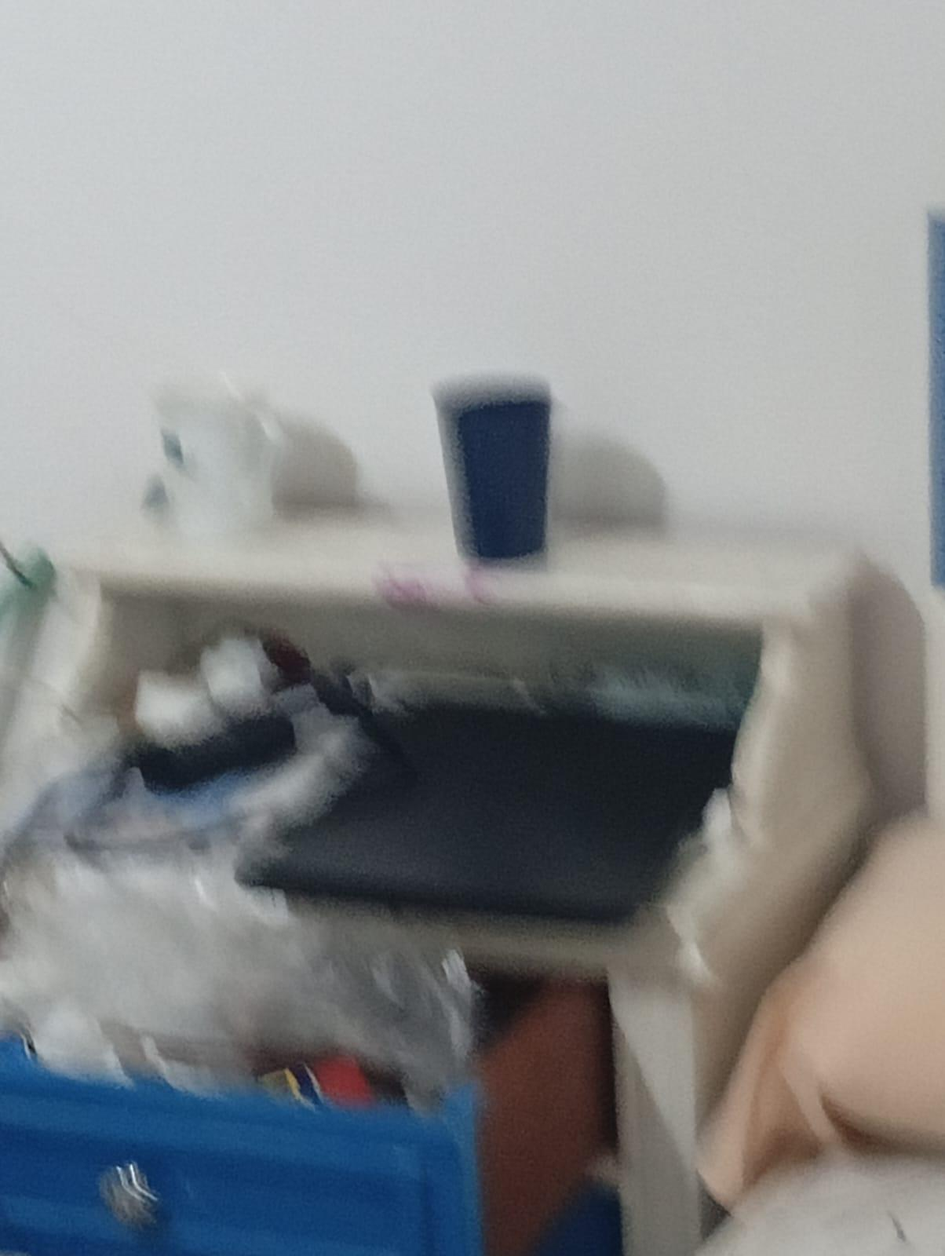cup: (432, 376, 551, 560), (155, 385, 284, 539)
